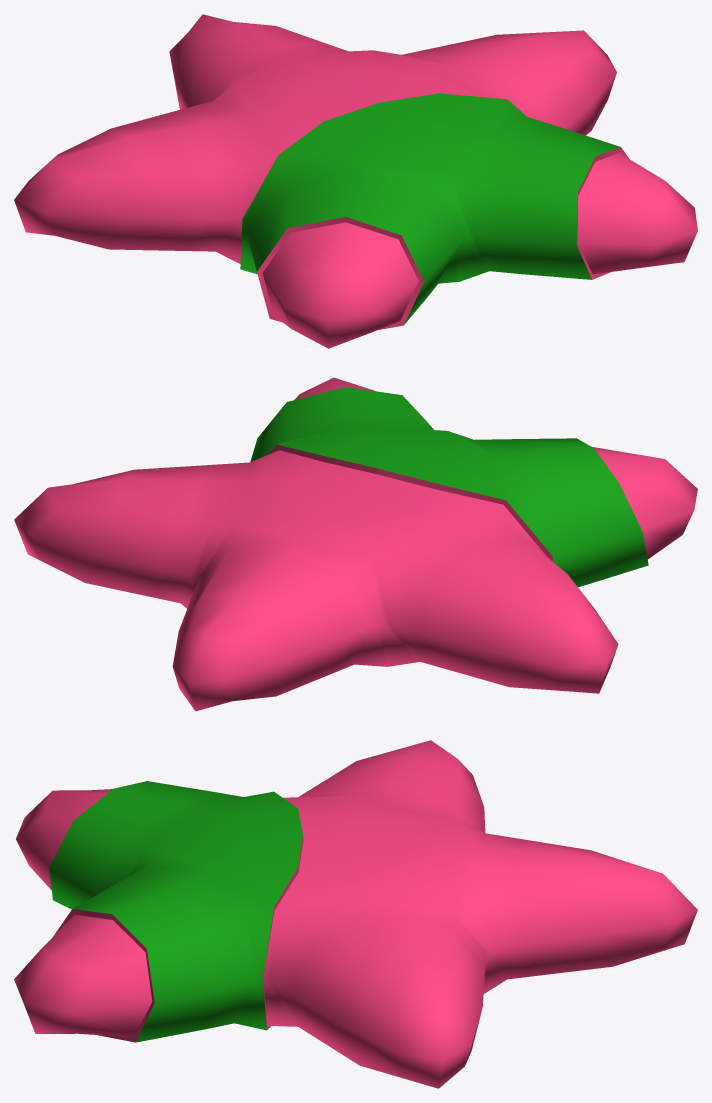
File: Pat.obj
3 views of the same model, one above another, from view 1: azimuth 30°, elevation 25°; view 2: azimuth 150°, elevation 25°; view 3: azimuth 270°, elevation 25° (orthographic). The views are drawn at different scales.
Visible parts, largest first — view 1: Pat; view 2: Pat; view 3: Pat.
Part boxes in pixels (<box>): Pat: <box>14,14,697,348</box>; Pat: <box>14,377,697,711</box>; Pat: <box>14,740,697,1088</box>.
Bounding box in the file's own units: 8.31 × 1.67 × 8.04.
